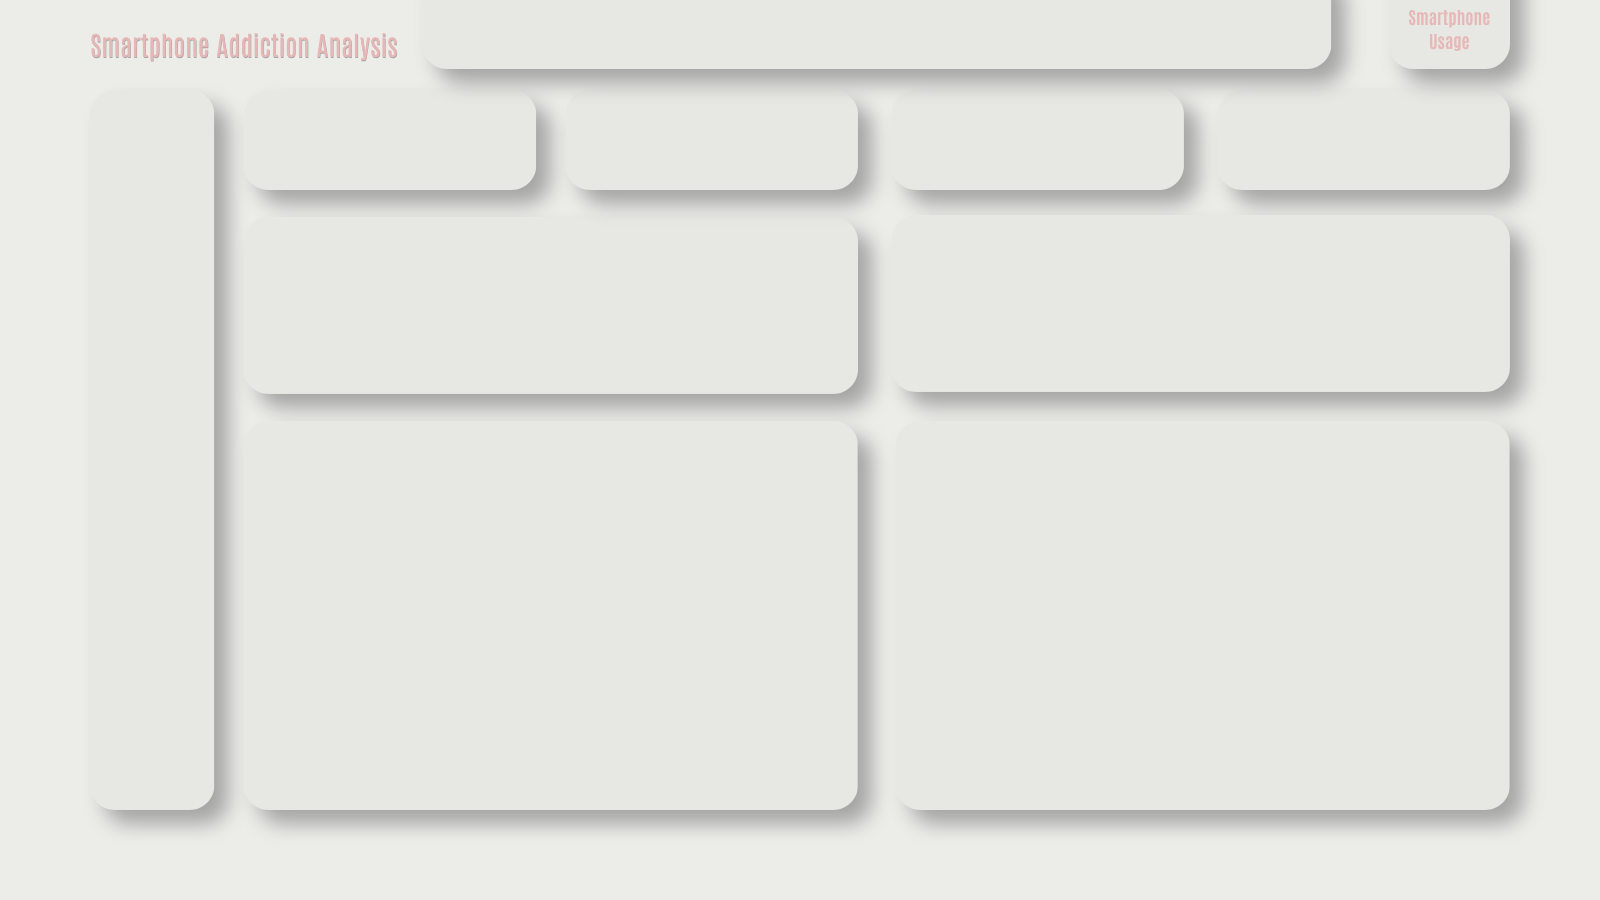

The page's visual inventory and layout, read from the dashboard file:
{"tool":"powerbi","page":{"name":"Overview","canvas":[1280,720],"ordinal":0},"visuals":[{"type":"card","fields":{"Values":["Count(smartphone_addiction_cleaned.user_id)"]},"box":[148.7,112.8,189.9,200.6],"z":0},{"type":"pieChart","fields":{"Y":["Divide(Count(smartphone_addiction_cleaned.user_id), ScopedEval(Count(smartphone_addiction_cleaned.user_id), []))"],"Category":["smartphone_addiction_cleaned.addiction_level"]},"box":[299.6,367.7,176,147.8],"z":1000},{"type":"card","fields":{"Values":["Avg(smartphone_addiction_cleaned.daily_screen_time_hours)"]},"box":[217.9,477.6,200.4,74.9],"z":2000},{"type":"pieChart","fields":{"Category":["smartphone_addiction_cleaned.stress_level"],"Y":["Divide(Count(smartphone_addiction_cleaned.user_id), ScopedEval(Count(smartphone_addiction_cleaned.user_id), []))"]},"box":[368.6,112.8,214,177],"z":3000},{"type":"card","fields":{"Values":["Avg(smartphone_addiction_cleaned.sleep_hours)"]},"box":[418.2,298.6,172.2,140.1],"z":4000},{"type":"card","fields":{"Values":["Avg(smartphone_addiction_cleaned.social_media_hours)"]},"box":[299.6,570,190.6,74.9],"z":5000},{"type":"donutChart","fields":{"Category":["smartphone_addiction_cleaned.gender"],"Y":["Divide(Count(smartphone_addiction_cleaned.user_id), ScopedEval(Count(smartphone_addiction_cleaned.user_id), []))"]},"box":[647.8,87.5,191.6,156.6],"z":6000},{"type":"card","fields":{"Values":["Median(smartphone_addiction_cleaned.weekend_screen_time)"]},"box":[686.7,289.8,193.6,187.7],"z":7000},{"type":"card","fields":{"Values":["Median(smartphone_addiction_cleaned.work_study_hours)"]},"box":[590.4,570,191.6,89.5],"z":8000},{"type":"card","fields":{"Values":["Median(smartphone_addiction_cleaned.gaming_hours)"]},"box":[975.6,105,157.6,139.1],"z":9000},{"type":"card","fields":{"Values":["Median(smartphone_addiction_cleaned.app_opens_per_day)"]},"box":[1020.3,314.2,140.1,124.5],"z":10000},{"type":"card","fields":{"Values":["Median(smartphone_addiction_cleaned.notifications_per_day)"]},"box":[963.9,525.2,219.8,89.5],"z":11000}]}

Visuals, with their boxes on the page's 1280x720 design canvas (x1, y1, x2, y2). These are canvas units, not pixel positions in the 1600x900 screenshot, which may show the page scaled, cropped or inside an application window:
card - Count(smartphone_addiction_cleaned.user_id): box(149, 113, 339, 313)
pieChart - Divide(Count(smartphone_addiction_cleaned.user_id), ScopedEval(Count(smartphone_addiction_cleaned.user_id), [])) x smartphone_addiction_cleaned.addiction_level: box(300, 368, 476, 516)
card - Avg(smartphone_addiction_cleaned.daily_screen_time_hours): box(218, 478, 418, 552)
pieChart - smartphone_addiction_cleaned.stress_level x Divide(Count(smartphone_addiction_cleaned.user_id), ScopedEval(Count(smartphone_addiction_cleaned.user_id), [])): box(369, 113, 583, 290)
card - Avg(smartphone_addiction_cleaned.sleep_hours): box(418, 299, 590, 439)
card - Avg(smartphone_addiction_cleaned.social_media_hours): box(300, 570, 490, 645)
donutChart - smartphone_addiction_cleaned.gender x Divide(Count(smartphone_addiction_cleaned.user_id), ScopedEval(Count(smartphone_addiction_cleaned.user_id), [])): box(648, 88, 839, 244)
card - Median(smartphone_addiction_cleaned.weekend_screen_time): box(687, 290, 880, 478)
card - Median(smartphone_addiction_cleaned.work_study_hours): box(590, 570, 782, 660)
card - Median(smartphone_addiction_cleaned.gaming_hours): box(976, 105, 1133, 244)
card - Median(smartphone_addiction_cleaned.app_opens_per_day): box(1020, 314, 1160, 439)
card - Median(smartphone_addiction_cleaned.notifications_per_day): box(964, 525, 1184, 615)
